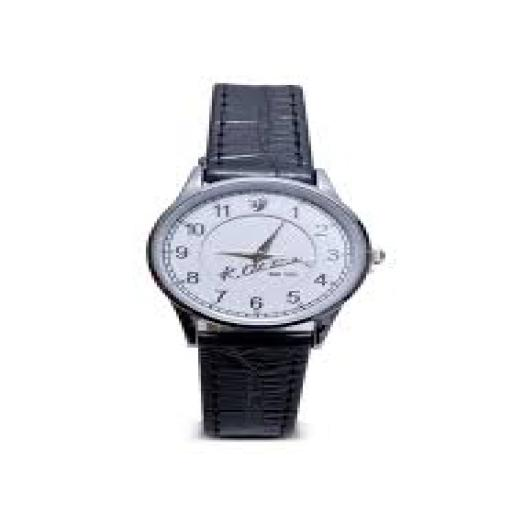KolSaati: (110, 58, 405, 456)
